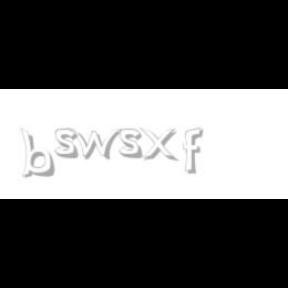b: (20, 128, 58, 178)
f: (183, 128, 207, 174)
s: (55, 128, 83, 160), (119, 128, 147, 160)
w: (66, 128, 125, 160)
x: (140, 128, 182, 162)
